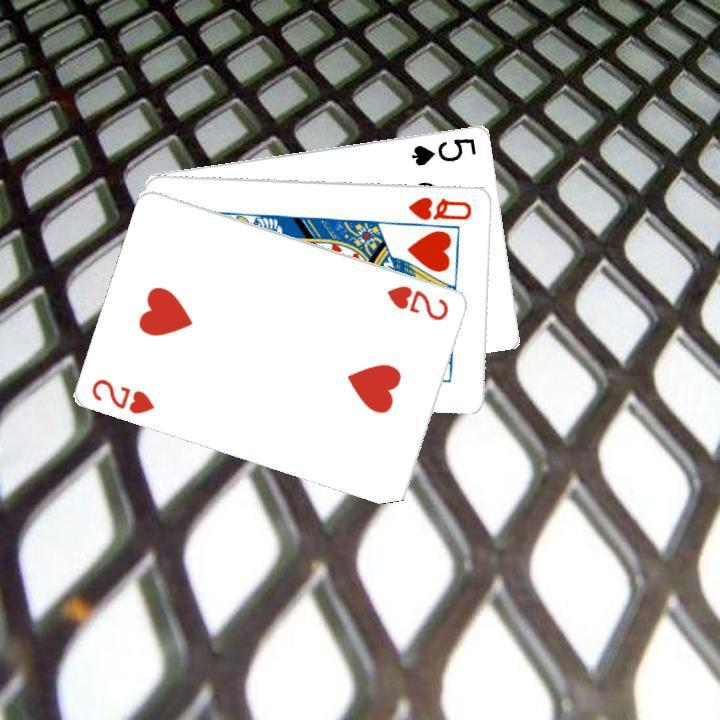2: (87, 374, 157, 416), (383, 280, 451, 323)
5: (407, 133, 479, 167)
Q: (404, 192, 475, 222)
